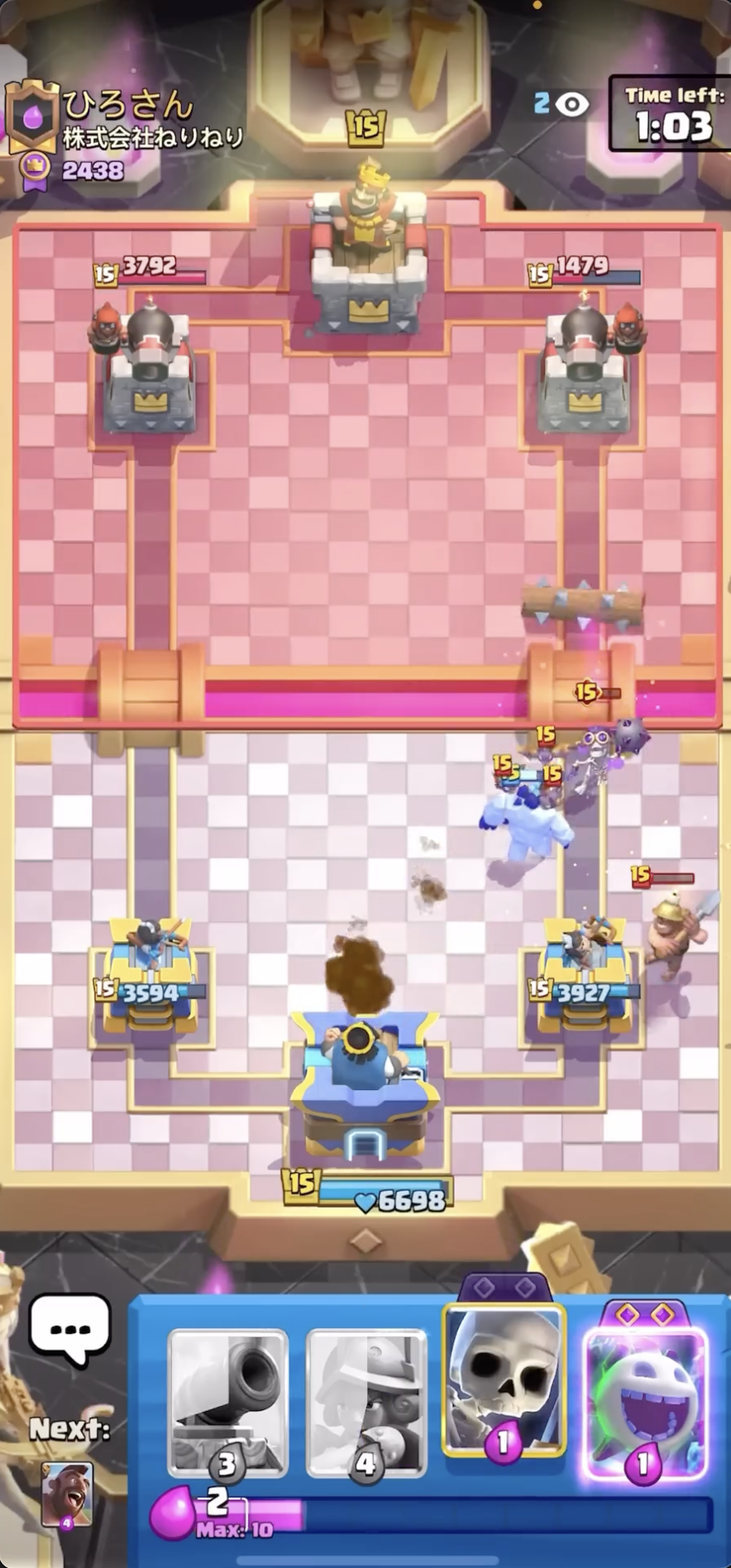bats: (516, 722, 582, 765)
evo-bomber: (569, 671, 648, 798)
miner: (625, 858, 710, 983)
